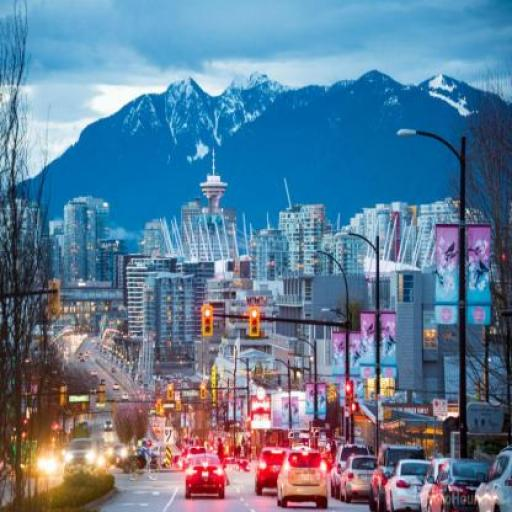street light: (398, 128, 468, 461), (336, 230, 380, 465), (304, 249, 351, 441), (290, 337, 318, 447), (266, 357, 292, 434), (233, 358, 249, 432)
